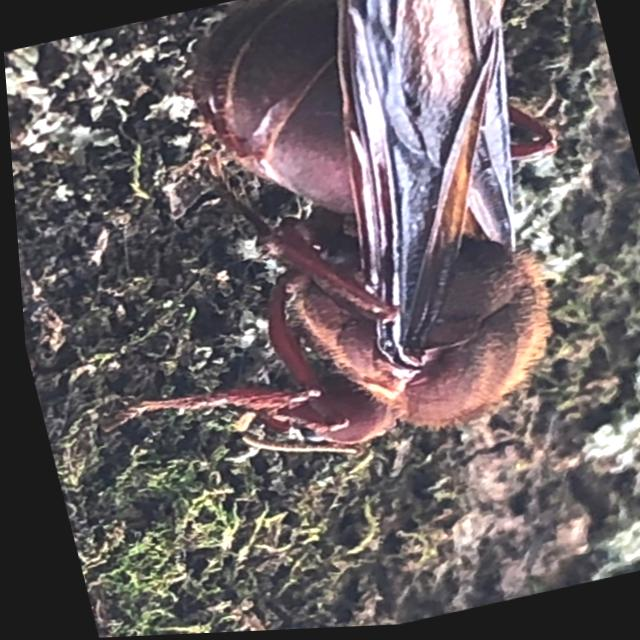Alive-Female-Alate: (0, 0, 635, 510)
